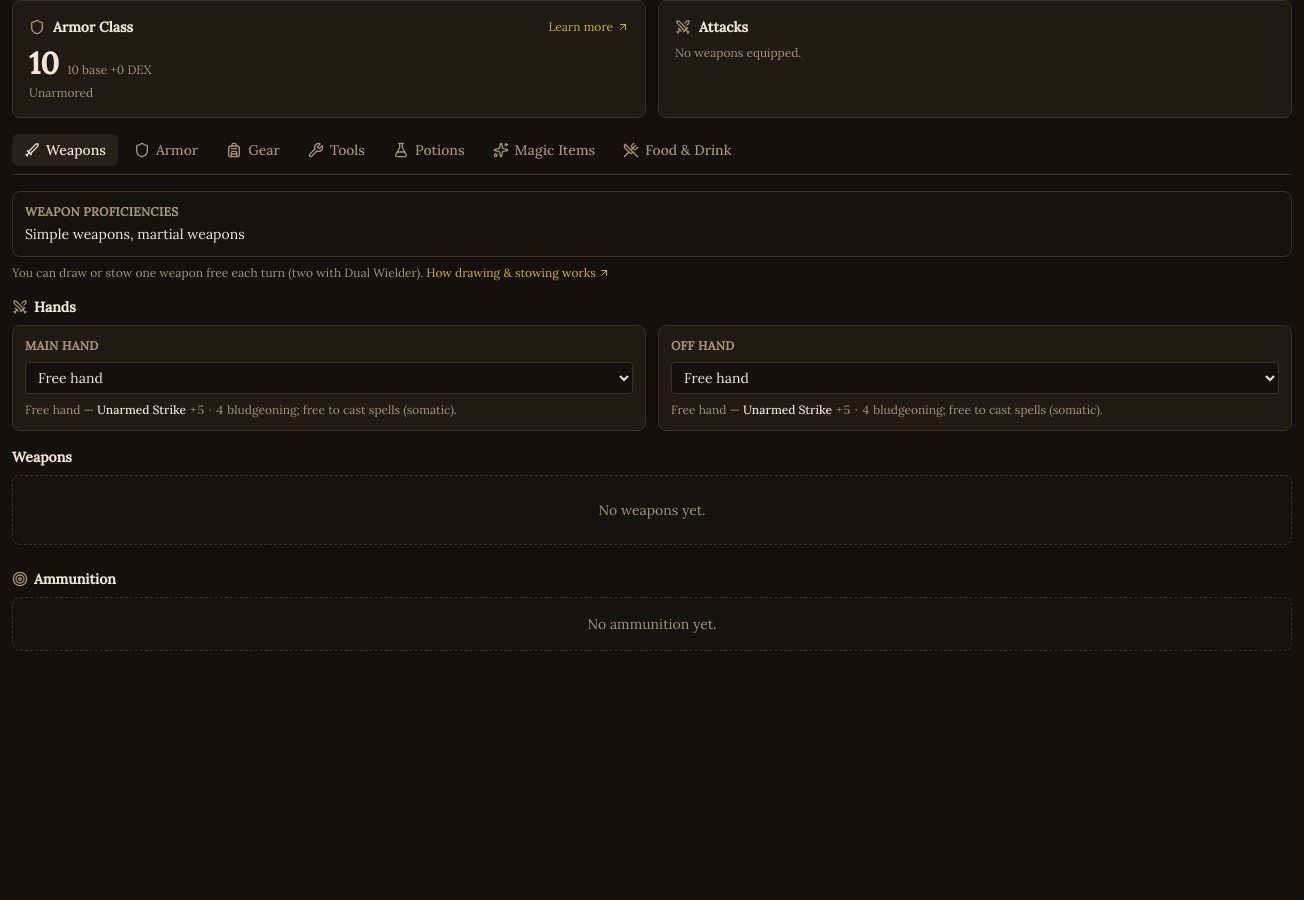
Test case: InventoryTab › shows armor proficiencies on the Armor tab
Click the button with test id "inv-category-armor".
click(166, 150)  # box [122,134,210,166]
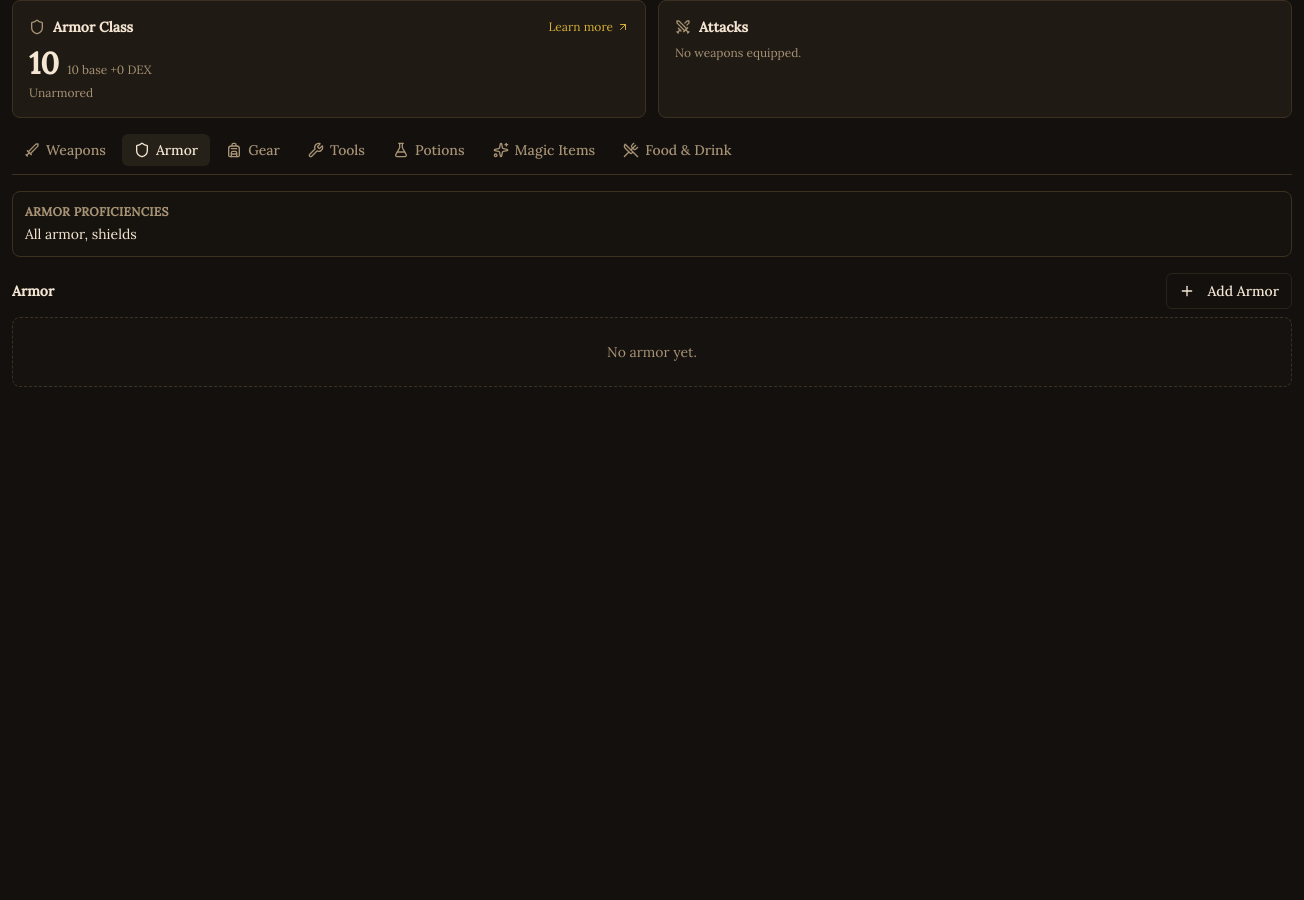
Expected: the element with test id "proficiency-banner" shows "All armor", [25,225,137,243]
